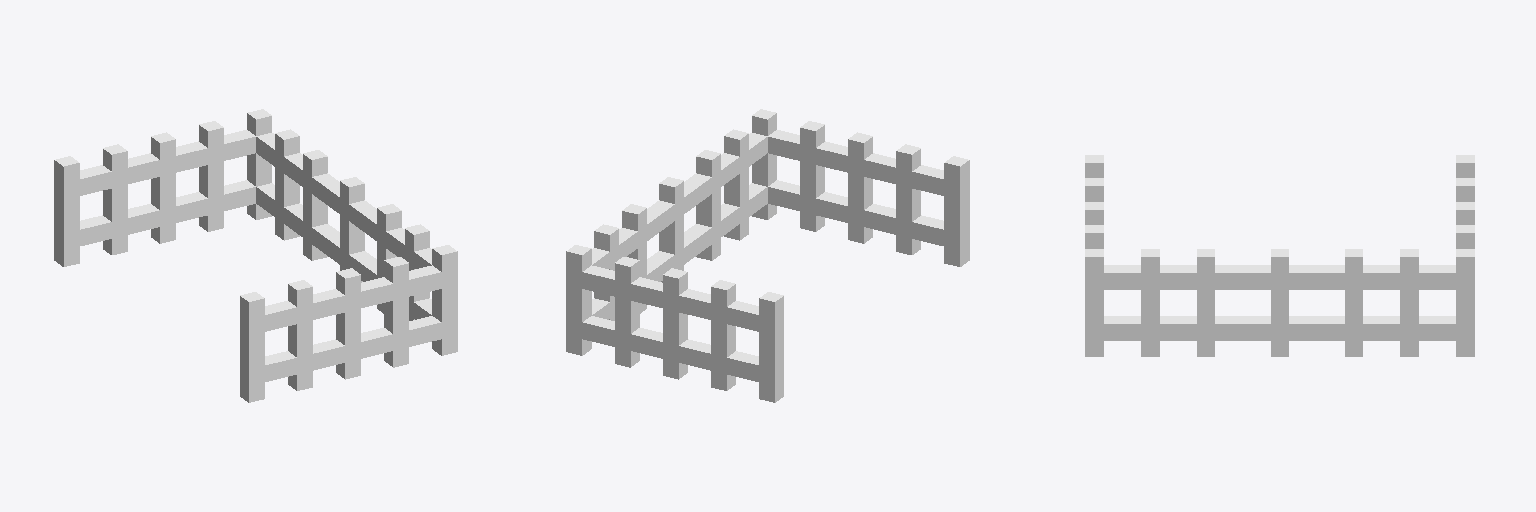
File: farm-3-coop_fence.obj
3 views of the same model, side by side, from view 1: azimuth 30°, elevation 25°; view 2: azimuth 150°, elevation 25°; view 3: azimuth 270°, elevation 25° (orthographic).
Visible parts, largest first — view 1: coop_fence; view 2: coop_fence; view 3: coop_fence.
Part boxes in pixels (bbox=[...]): coop_fence: bbox=[54, 109, 457, 402]; coop_fence: bbox=[566, 109, 969, 402]; coop_fence: bbox=[1085, 155, 1474, 356].
Bounding box in the file's own units: 1.3 × 0.6 × 2.1.